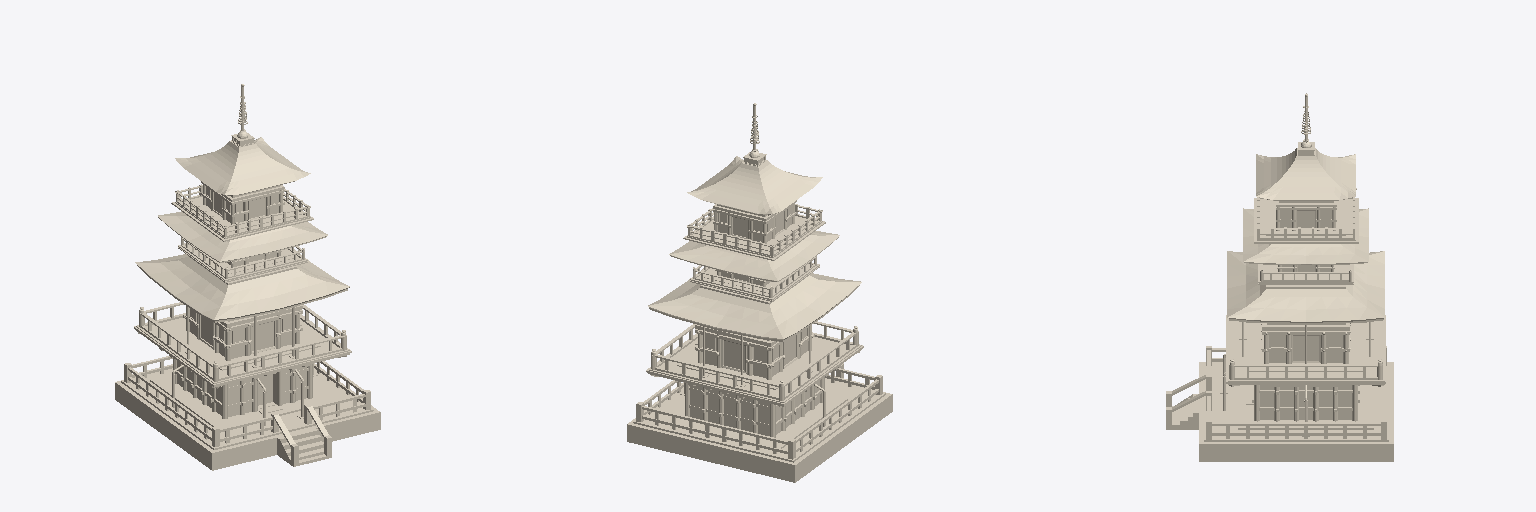
The model's file is tower.obj.
3 views of the same model, side by side, from view 1: azimuth 30°, elevation 25°; view 2: azimuth 150°, elevation 25°; view 3: azimuth 270°, elevation 25° (orthographic).
Parts seen in each view (by area): view 1: Japanese_Shrine; view 2: Japanese_Shrine; view 3: Japanese_Shrine.
Part boxes in pixels (x1,y1,x2,y2): Japanese_Shrine: (115,84,380,470); Japanese_Shrine: (627,103,892,482); Japanese_Shrine: (1166,93,1393,461).
Size of the model in its own units: 20 by 37.38 by 23.4.